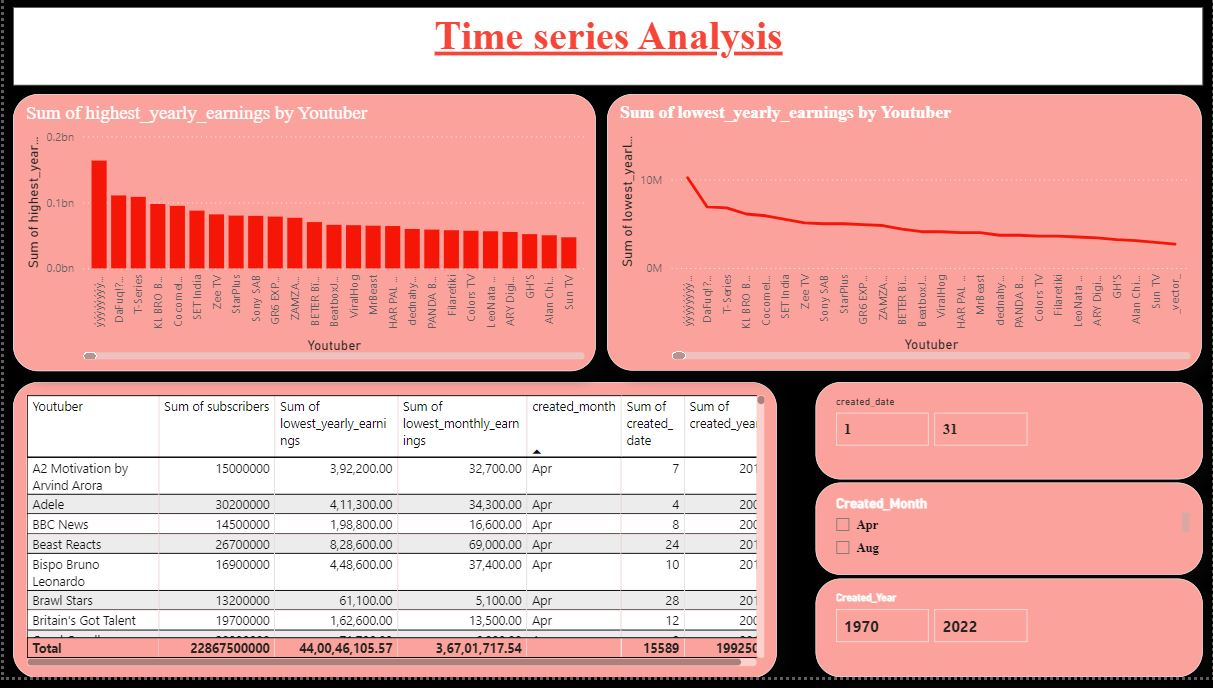

The dashboard page shown, as its layout file describes it:
{"tool":"powerbi","page":{"name":"Page 2","canvas":[1280,720],"ordinal":1},"visuals":[{"type":"tableEx","fields":{"Values":["Global YouTube Statistics.Youtuber","Sum(Global YouTube Statistics.subscribers)","Sum(Global YouTube Statistics.lowest_yearly_earnings)","Sum(Global YouTube Statistics.lowest_monthly_earnings)","Global YouTube Statistics.created_month","Sum(Global YouTube Statistics.created_date)","Sum(Global YouTube Statistics.created_year)"]},"box":[9.3,406.5,810.3,313.8],"z":0},{"type":"columnChart","fields":{"Y":["Sum(Global YouTube Statistics.highest_yearly_earnings)"],"Category":["Global YouTube Statistics.Youtuber"]},"box":[9.3,101.9,618.3,293.9],"z":1000},{"type":"lineChart","fields":{"Category":["Global YouTube Statistics.Youtuber"],"Y":["Sum(Global YouTube Statistics.lowest_yearly_earnings)"]},"box":[639.7,102.2,630.9,293.5],"z":2000},{"type":"slicer","fields":{"Values":["Global YouTube Statistics.created_date"]},"box":[860.6,406.5,410.4,103.3],"z":3000},{"type":"slicer","fields":{"Values":["Global YouTube Statistics.created_month"]},"box":[860.2,514.1,410.4,97.8],"z":4000},{"type":"slicer","fields":{"Values":["Global YouTube Statistics.created_year"]},"box":[860.6,615.6,410.4,104.6],"z":5000},{"type":"textbox","box":[9.3,9.3,1261.7,83.4],"z":6000}]}

Visuals, with their boxes in screenshot pixels (x1, y1, x2, y2), scaled from the page's 1280x720 canvas onto the 1213x688 screenshot:
tableEx - Global YouTube Statistics.Youtuber x Sum(Global YouTube Statistics.subscribers): [9,388,777,687]
columnChart - Sum(Global YouTube Statistics.highest_yearly_earnings) x Global YouTube Statistics.Youtuber: [9,97,595,378]
lineChart - Global YouTube Statistics.Youtuber x Sum(Global YouTube Statistics.lowest_yearly_earnings): [606,98,1204,378]
slicer - Global YouTube Statistics.created_date: [816,388,1204,487]
slicer - Global YouTube Statistics.created_month: [815,491,1204,585]
slicer - Global YouTube Statistics.created_year: [816,588,1204,687]
textbox: [9,9,1204,89]
